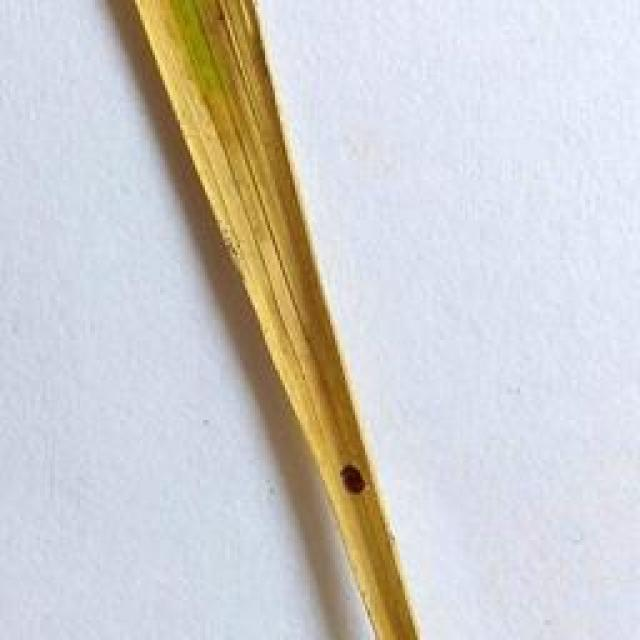Bacterial_Blight: (130, 0, 420, 640)
Brown_Spot: (338, 458, 368, 498)
